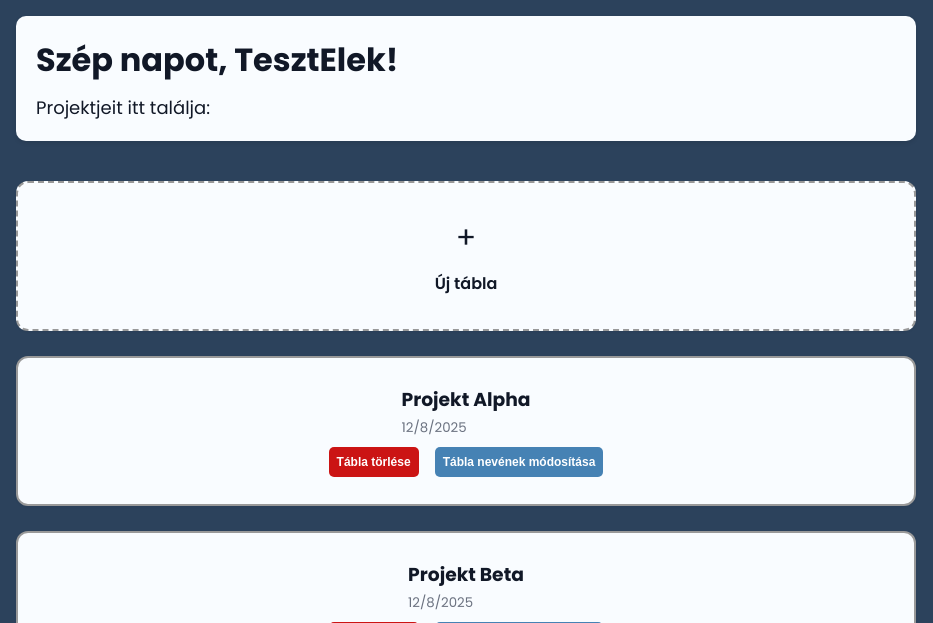
Test: DashboardPage Component › Tábla átnevezése
Click the button "Tábla nevének módosítása" below "Projekt Alpha" at (519, 462), box [435,447,603,477]
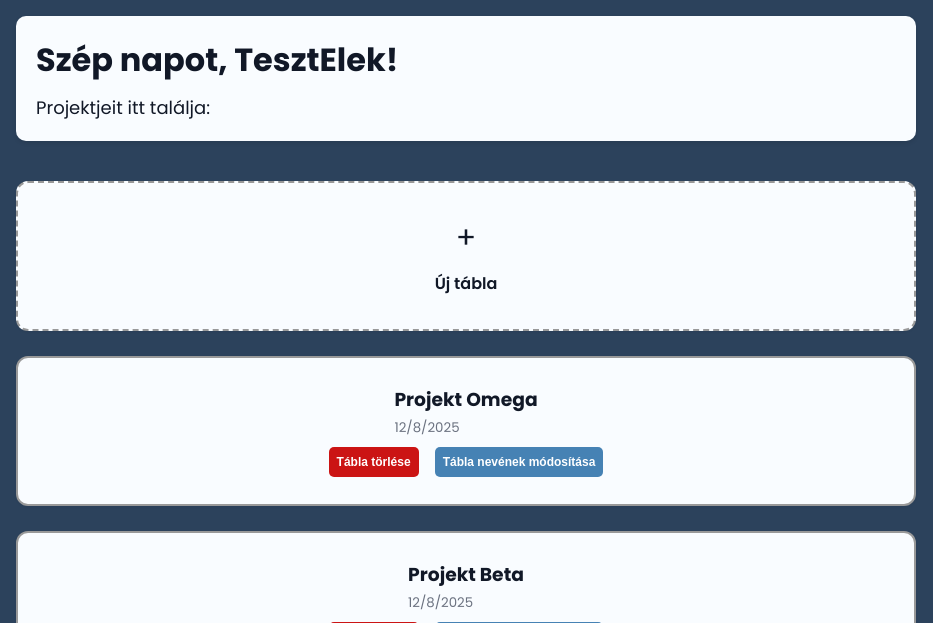
Now the heading "Projekt Omega" is shown, box [394,385,538,414]
